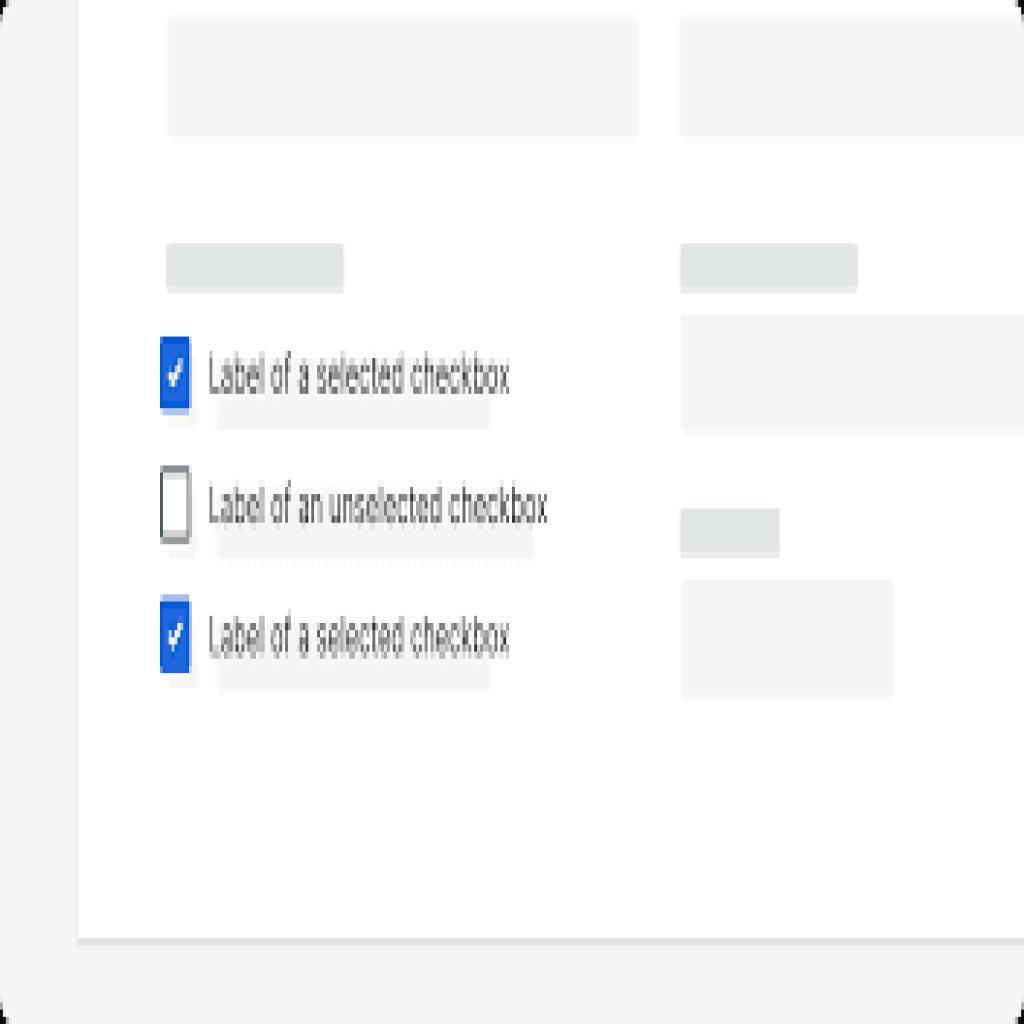checkbox: (160, 337, 193, 415), (158, 468, 191, 542), (161, 600, 194, 674)
label: (207, 480, 551, 534), (201, 346, 518, 399), (204, 611, 516, 661)
